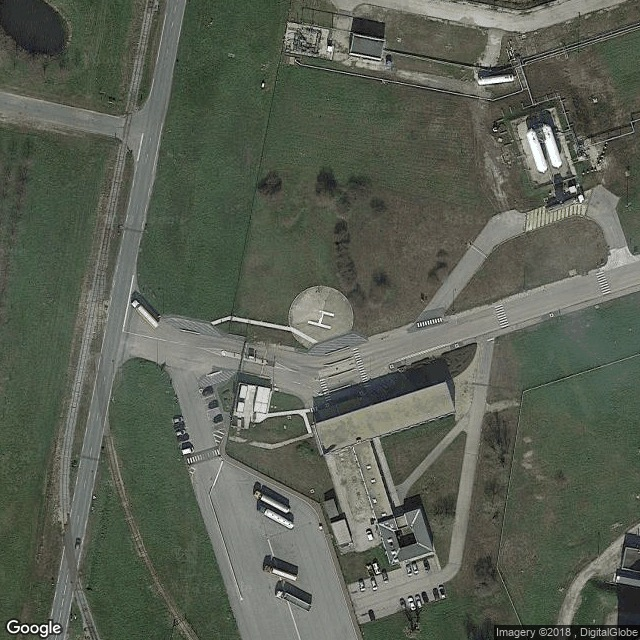heliport: (305, 305, 335, 330)
